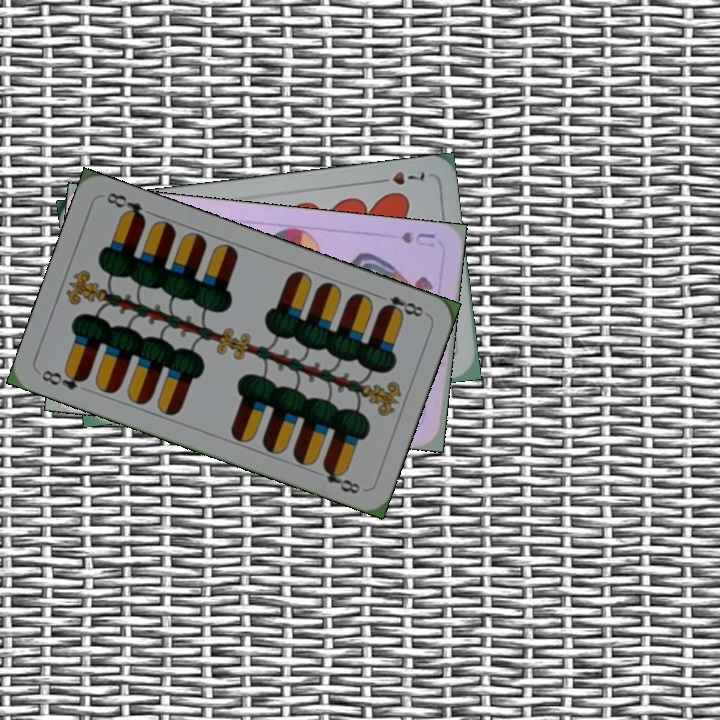E8: (372, 290, 426, 320), (37, 366, 91, 393)
H7: (371, 167, 428, 188)
SU: (397, 227, 438, 250)
